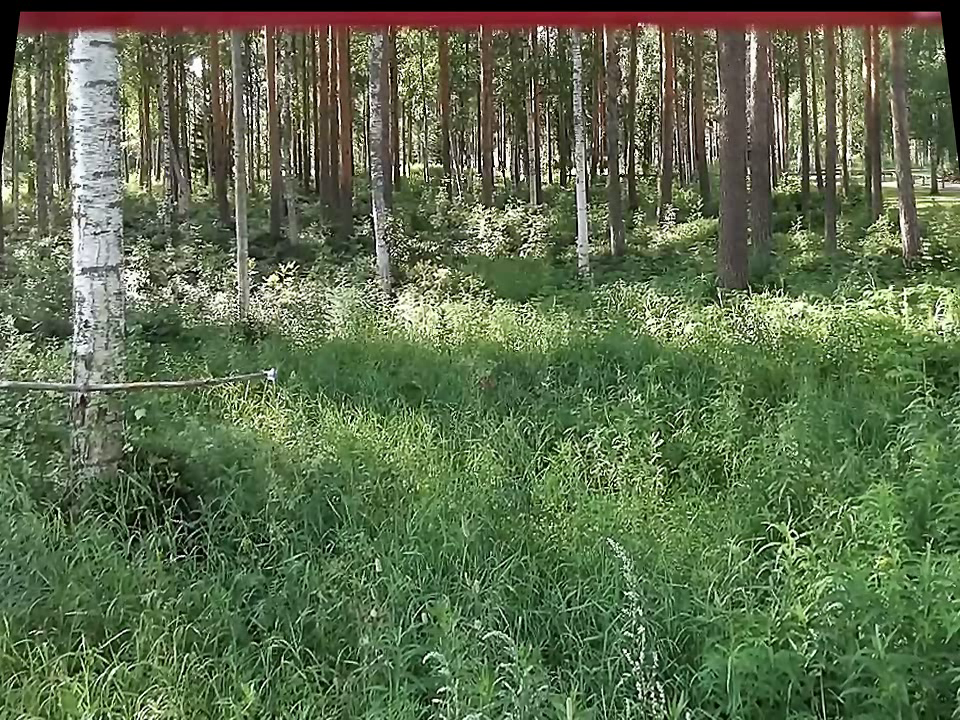branch: (0, 363, 257, 397)
